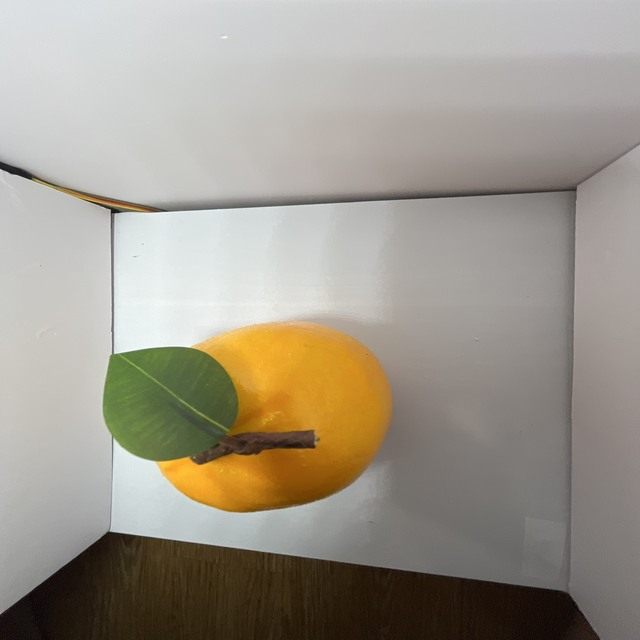Cam vang: (133, 320, 391, 517)
